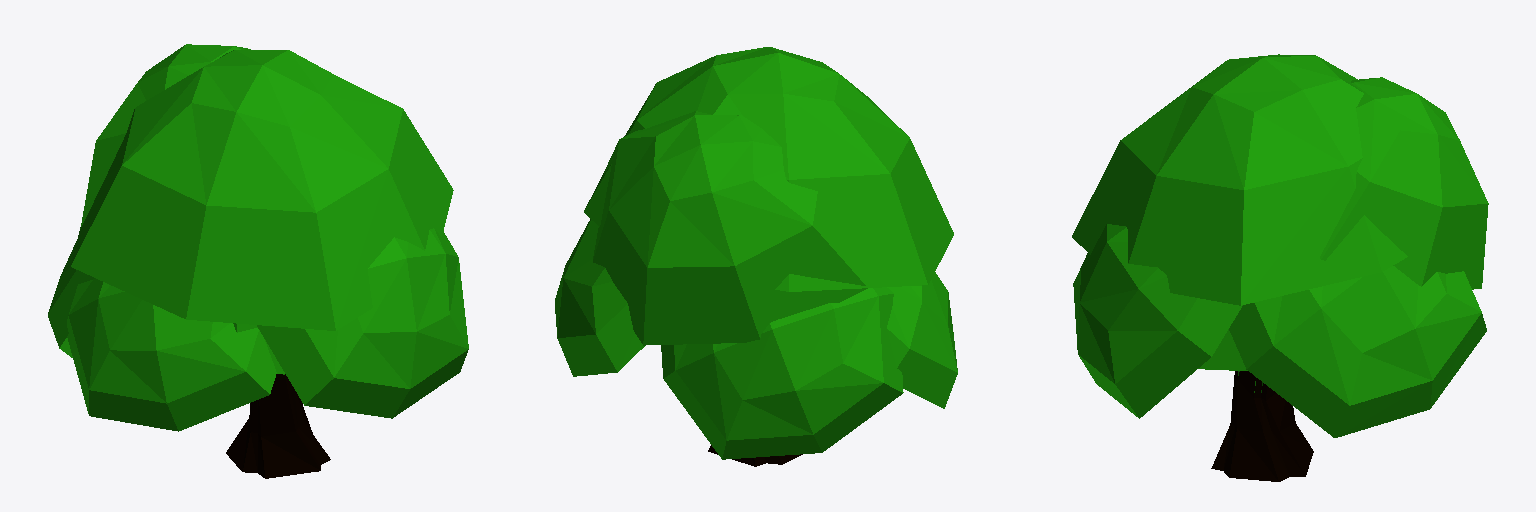
File: Tree.obj
3 views of the same model, side by side, from view 1: azimuth 30°, elevation 25°; view 2: azimuth 150°, elevation 25°; view 3: azimuth 270°, elevation 25° (orthographic).
Parts seen in each view (by area): view 1: Mesh_Tree.001, Mesh.001_Tree; view 2: Mesh_Tree.001; view 3: Mesh_Tree.001, Mesh.001_Tree.
Boxes of the visible parts, box(x1,y1,x2,y2) form: Mesh_Tree.001: box(48, 44, 468, 431); Mesh.001_Tree: box(226, 374, 330, 478); Mesh_Tree.001: box(555, 47, 957, 459); Mesh_Tree.001: box(1072, 54, 1488, 437); Mesh.001_Tree: box(1211, 371, 1313, 481).
Size of the model in its own units: 1.16 by 1.23 by 1.17.